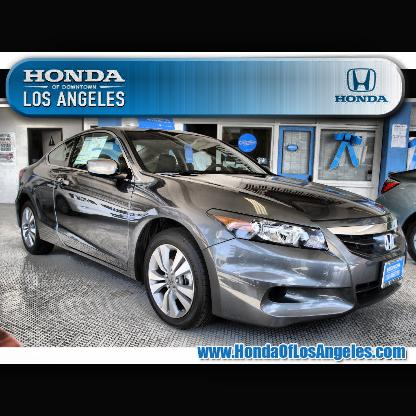Honda Accord Coupe 2012: (17, 127, 410, 331)
